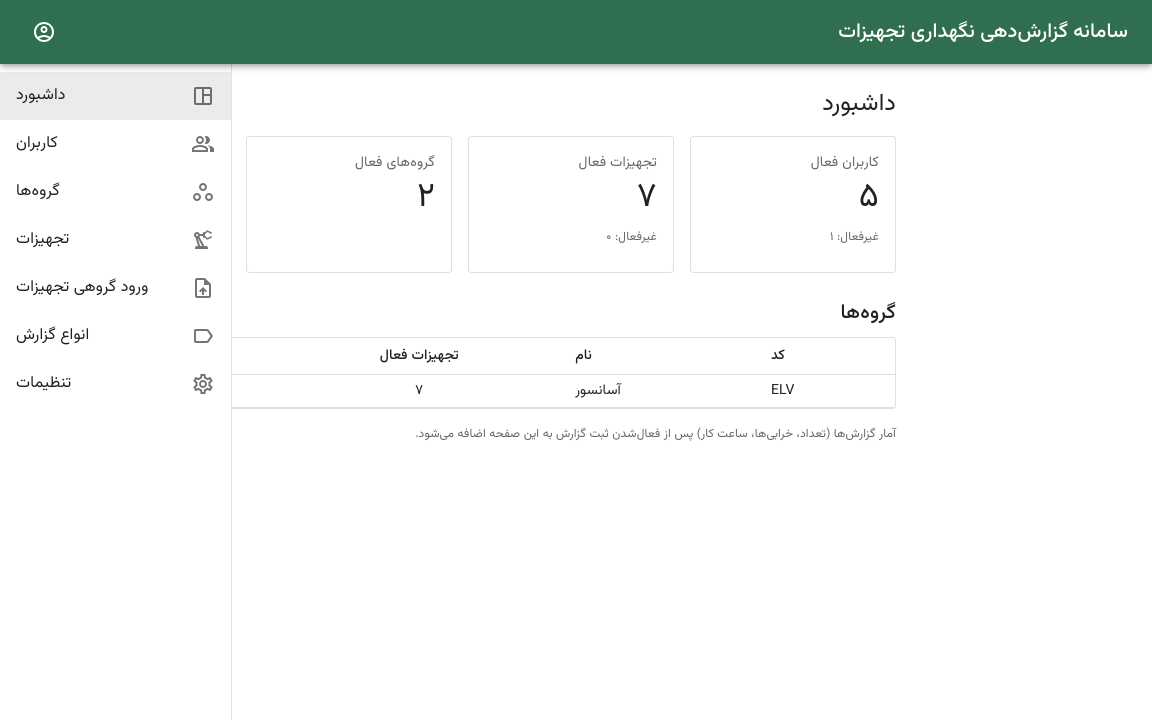
Scenario: login › logout clears the session and returns to the login page
Check: the text "کاربران فعال" is shown, box [811, 152, 879, 174]
Click the button named "حساب کاربری".
click(44, 32)  # box [24, 12, 64, 52]
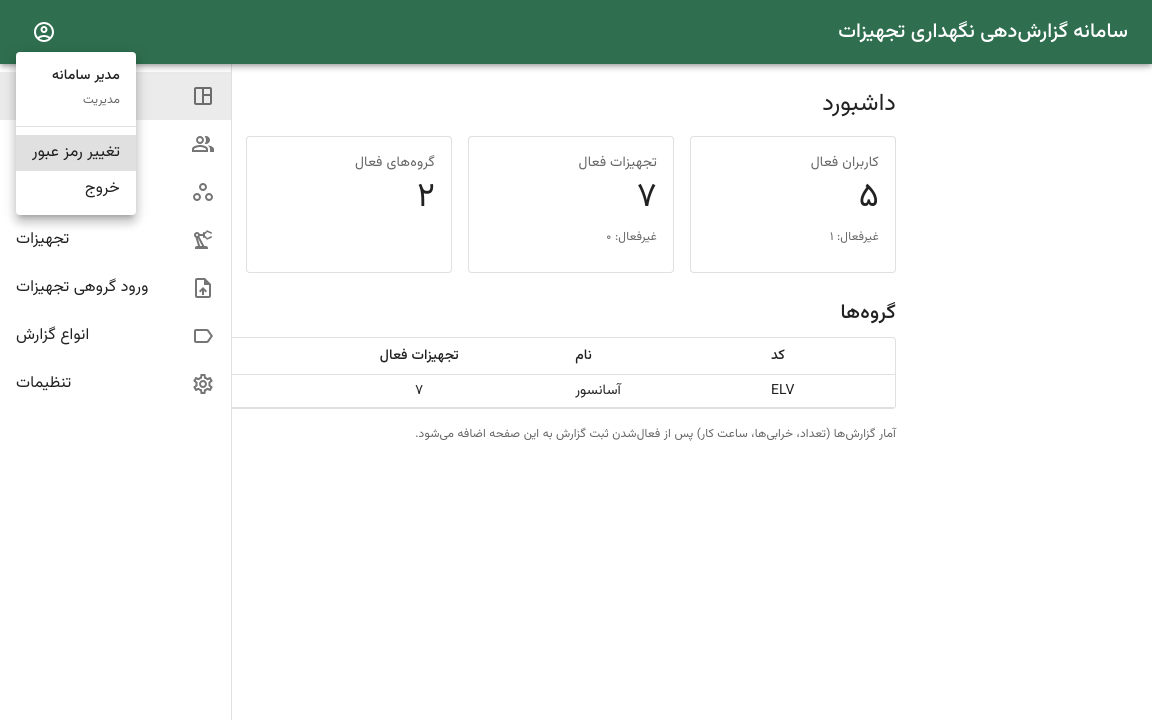
Click the menu item "خروج".
click(102, 188)  # box [85, 176, 120, 201]
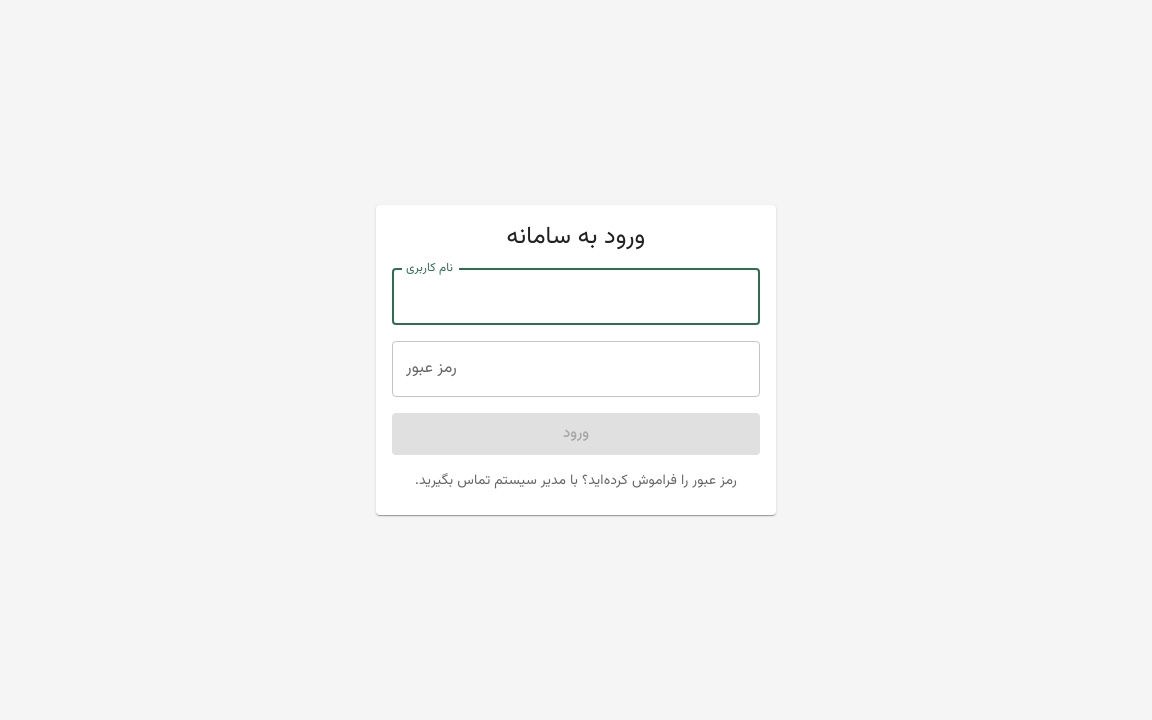
Check: the heading "ورود به سامانه" is shown, box [507, 218, 645, 256]
